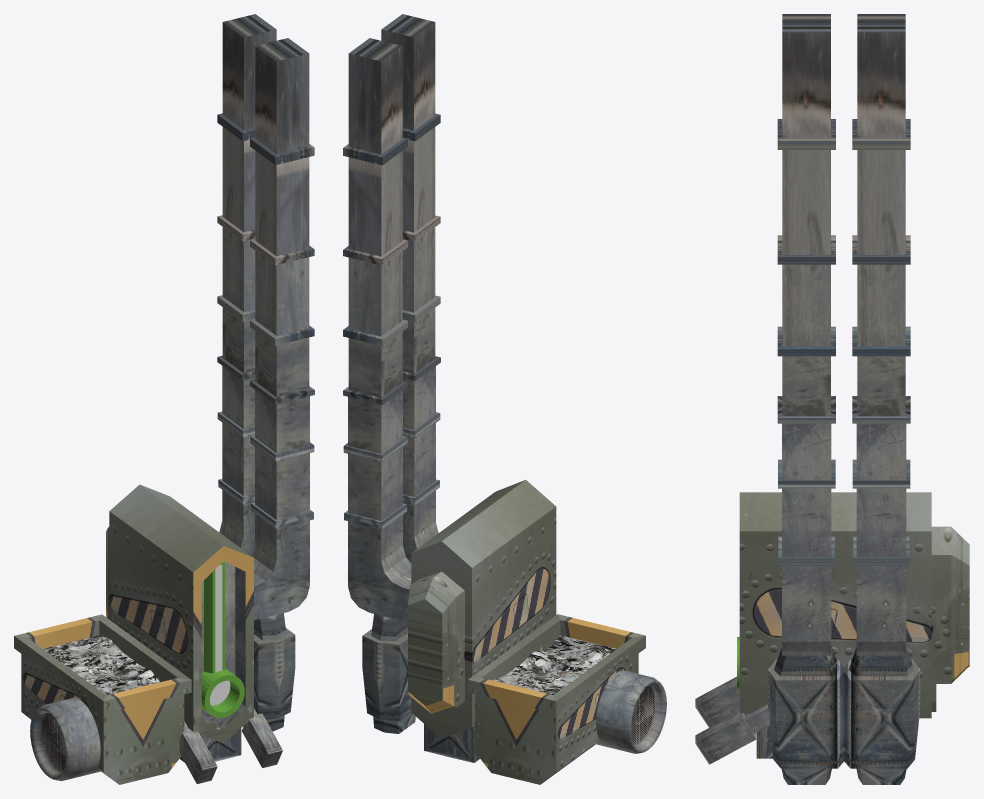
File: Scrap 4.fbx
The picture shows the model from 3 angles, left to right: view 1: azimuth 30°, elevation 25°; view 2: azimuth 150°, elevation 25°; view 3: azimuth 270°, elevation 25°; orthographic projection. The views are drawn at different scales.
Visible parts, largest first — view 1: Cube.002; view 2: Cube.002; view 3: Cube.002.
Boxes of the visible parts, x1,y1,x2,y2 form: Cube.002: (14,14,314,784); Cube.002: (343,14,666,784); Cube.002: (695,14,969,784).
Bounding box in the file's own units: 754 × 1890 × 609.
